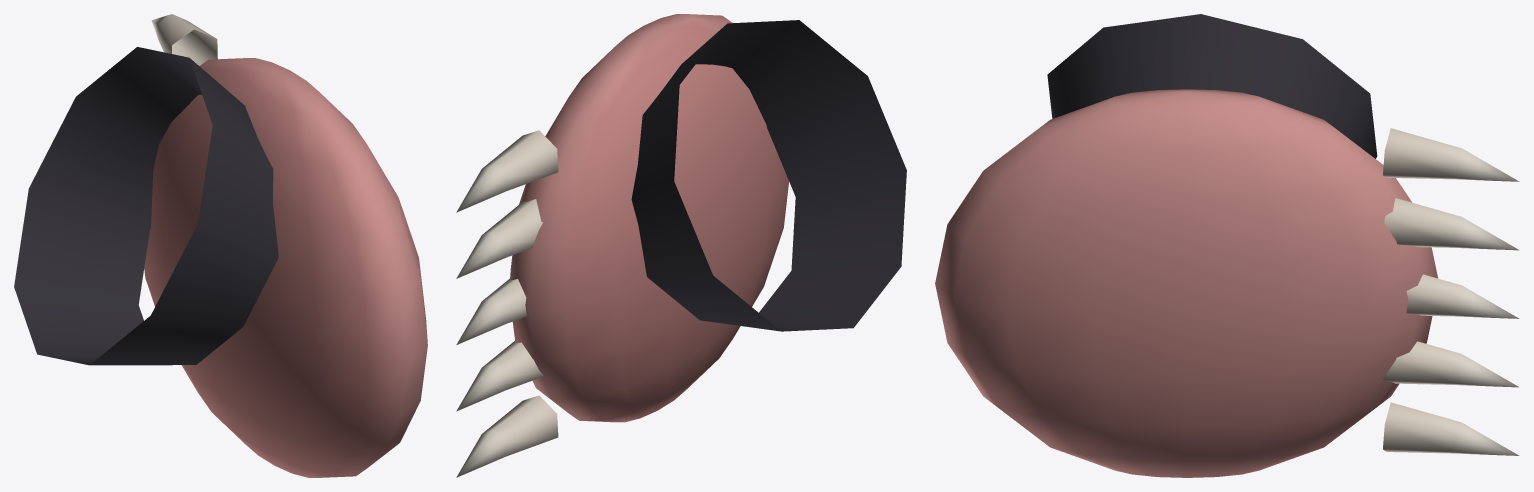
Rendered from Mogura_Leg1.fbx.
3 views of the same model, side by side, from view 1: azimuth 30°, elevation 25°; view 2: azimuth 150°, elevation 25°; view 3: azimuth 270°, elevation 25° (orthographic). The views are drawn at different scales.
Visible parts, largest first — view 1: Mogura_Leg1; view 2: Mogura_Leg1; view 3: Mogura_Leg1.
Part boxes in pixels (box(x1,y1,x2,y2)): Mogura_Leg1: box(14, 14, 427, 477); Mogura_Leg1: box(456, 14, 906, 477); Mogura_Leg1: box(935, 14, 1519, 477).
Bounding box in the file's own units: 0.7024 × 0.9179 × 1.16.
